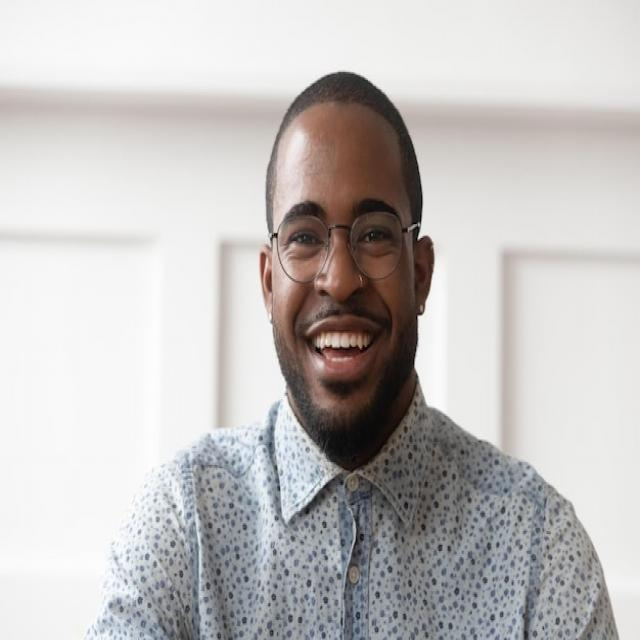nothing: (254, 58, 430, 261)
